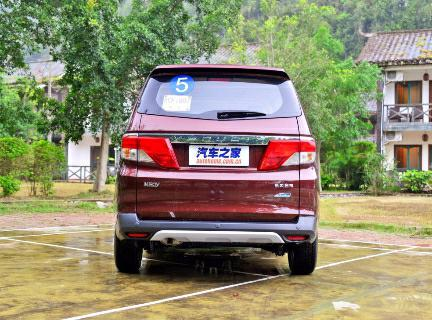启辰-M50V: (110, 63, 325, 280)
